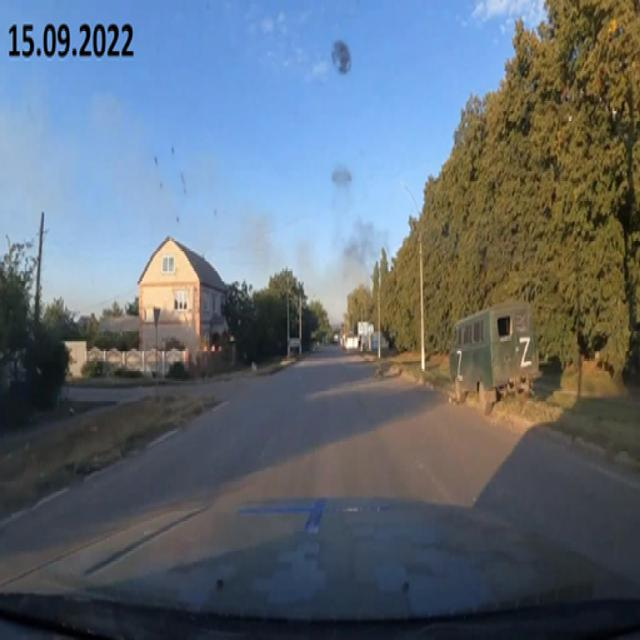CAR: (449, 293, 540, 411)
